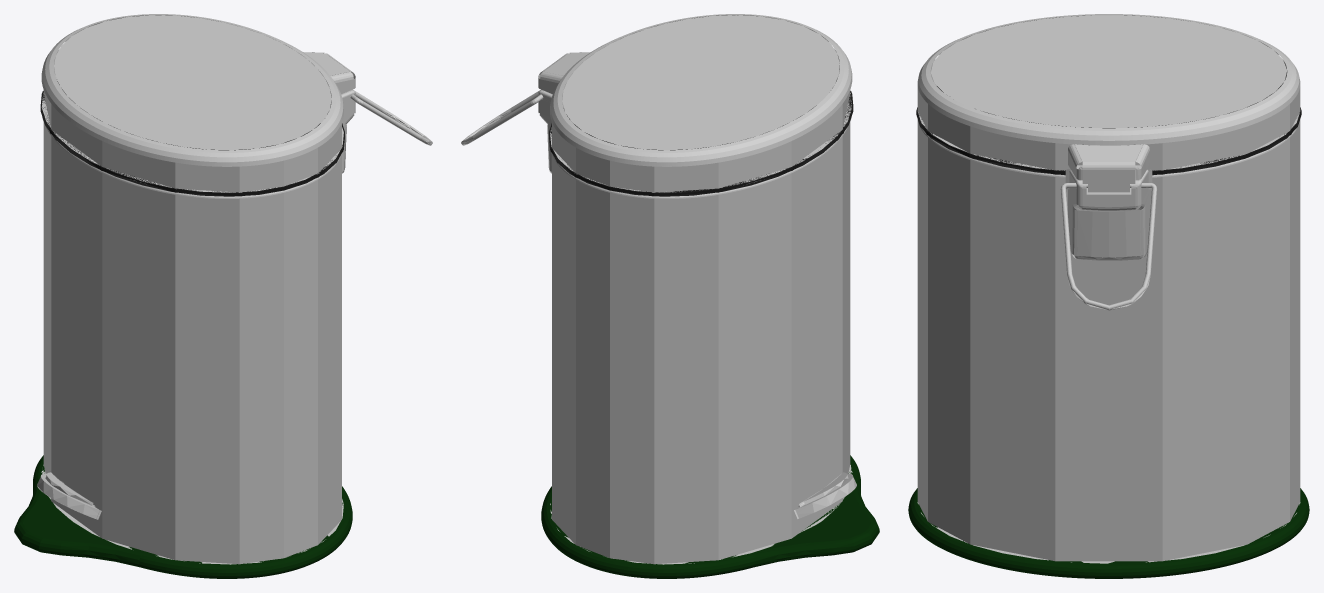
3 renders of one model, left to right at view 1: azimuth 30°, elevation 25°; view 2: azimuth 150°, elevation 25°; view 3: azimuth 270°, elevation 25°, orthographic. The views are drawn at different scales.
Visible parts, largest first — view 1: mesh10_mesh10-geometry, mesh35_mesh35-geometry, mesh11_mesh11-geometry, mesh25_mesh25-geometry, mesh23_mesh23-geometry, mesh4_mesh4-geometry, mesh31_mesh31-geometry, mesh12_mesh12-geometry, mesh24_mesh24-geometry, mesh3_mesh3-geometry, mesh33_mesh33-geometry, mesh36_mesh36-geometry (+5 smaller); view 2: mesh10_mesh10-geometry, mesh35_mesh35-geometry, mesh11_mesh11-geometry, mesh25_mesh25-geometry, mesh23_mesh23-geometry, mesh4_mesh4-geometry, mesh12_mesh12-geometry, mesh31_mesh31-geometry, mesh24_mesh24-geometry, mesh2_mesh2-geometry, mesh14_mesh14-geometry, mesh29_mesh29-geometry (+6 smaller); view 3: mesh11_mesh11-geometry, mesh35_mesh35-geometry, mesh24_mesh24-geometry, mesh31_mesh31-geometry, mesh4_mesh4-geometry, mesh64_mesh64-geometry, mesh110_mesh110-geometry, mesh5_mesh5-geometry, mesh23_mesh23-geometry, mesh111_mesh111-geometry, mesh9_mesh9-geometry, mesh93_mesh93-geometry (+6 smaller).
Boxes of the visible parts, x1,y1,x2,y2 form: mesh10_mesh10-geometry: [43, 122, 283, 564]; mesh35_mesh35-geometry: [54, 15, 331, 150]; mesh11_mesh11-geometry: [284, 155, 341, 557]; mesh25_mesh25-geometry: [43, 49, 283, 192]; mesh23_mesh23-geometry: [41, 16, 260, 166]; mesh4_mesh4-geometry: [33, 455, 352, 575]; mesh31_mesh31-geometry: [127, 14, 343, 164]; mesh12_mesh12-geometry: [23, 465, 343, 564]; mesh24_mesh24-geometry: [284, 79, 341, 186]; mesh3_mesh3-geometry: [60, 541, 142, 564]; mesh33_mesh33-geometry: [37, 477, 101, 519]; mesh36_mesh36-geometry: [41, 78, 343, 192]; mesh10_mesh10-geometry: [610, 122, 850, 564]; mesh35_mesh35-geometry: [562, 15, 839, 150]; mesh11_mesh11-geometry: [552, 155, 609, 557]; mesh25_mesh25-geometry: [610, 49, 850, 192]; mesh23_mesh23-geometry: [590, 25, 852, 166]; mesh4_mesh4-geometry: [541, 455, 860, 575]; mesh12_mesh12-geometry: [550, 468, 870, 564]; mesh31_mesh31-geometry: [550, 14, 811, 153]; mesh24_mesh24-geometry: [552, 76, 609, 186]; mesh2_mesh2-geometry: [751, 541, 833, 564]; mesh14_mesh14-geometry: [591, 117, 851, 198]; mesh29_mesh29-geometry: [550, 94, 853, 193]; mesh11_mesh11-geometry: [917, 120, 1300, 561]; mesh35_mesh35-geometry: [931, 15, 1286, 127]; mesh24_mesh24-geometry: [917, 86, 1300, 170]; mesh31_mesh31-geometry: [917, 62, 1297, 145]; mesh4_mesh4-geometry: [908, 488, 1309, 575]; mesh64_mesh64-geometry: [1074, 210, 1143, 257]; mesh110_mesh110-geometry: [1068, 150, 1149, 192]; mesh5_mesh5-geometry: [909, 517, 1308, 578]; mesh23_mesh23-geometry: [922, 14, 1300, 93]; mesh111_mesh111-geometry: [1075, 144, 1142, 161]; mesh9_mesh9-geometry: [917, 119, 1297, 177]; mesh93_mesh93-geometry: [1082, 188, 1135, 206].
Bounding box in the file's own units: 0.614 × 0.6102 × 0.5006.
